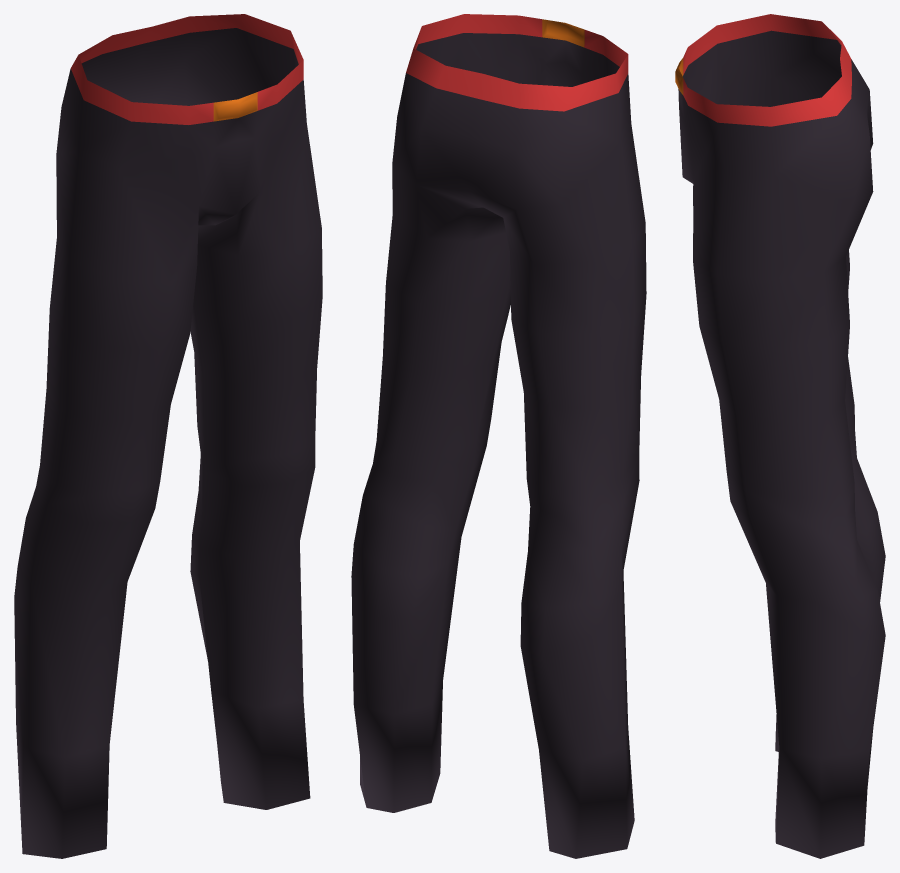
Rendered from Pants_02.fbx.
The picture shows the model from 3 angles, left to right: view 1: azimuth 30°, elevation 25°; view 2: azimuth 150°, elevation 25°; view 3: azimuth 270°, elevation 25°; orthographic projection. The views are drawn at different scales.
Visible parts, largest first — view 1: Pants_02; view 2: Pants_02; view 3: Pants_02.
Boxes of the visible parts, x1,y1,x2,y2 form: Pants_02: (14,14,322,858); Pants_02: (351,14,646,858); Pants_02: (675,14,885,858).
Size of the model in its own units: 41.88 by 112 by 29.08.
